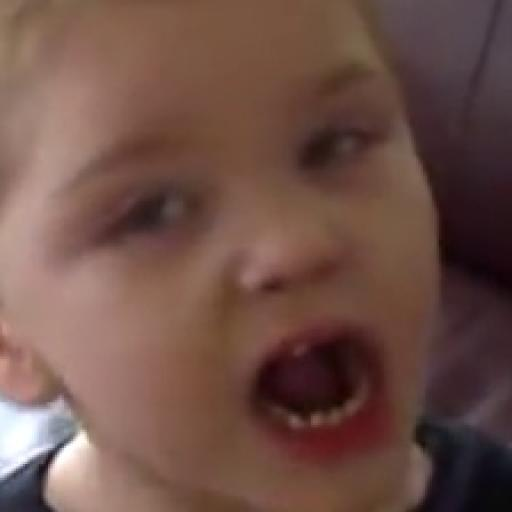Autism: (5, 4, 483, 512)
